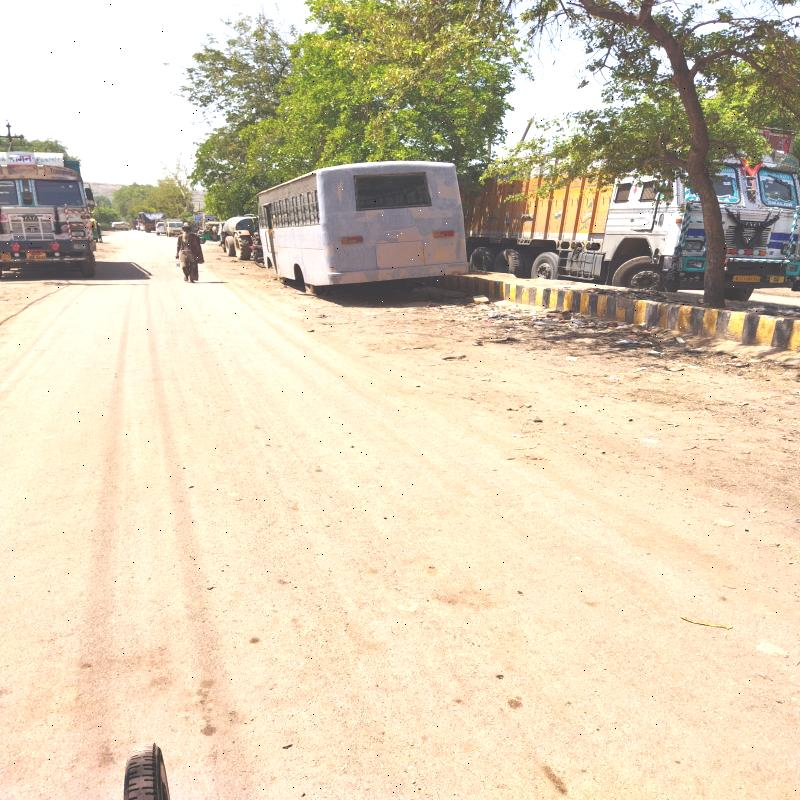bus: (264, 172, 461, 288)
